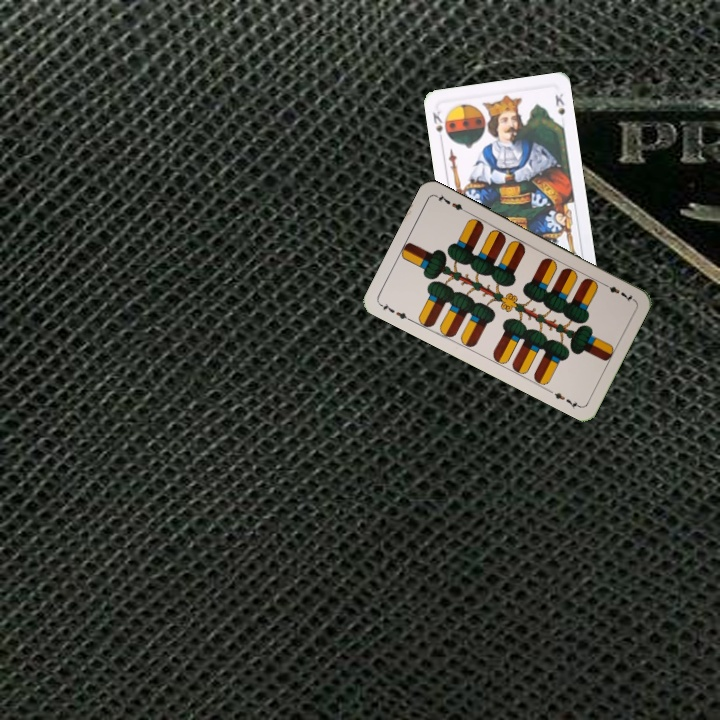E7: (598, 279, 636, 305), (376, 299, 414, 324)
SK: (429, 104, 452, 145)
